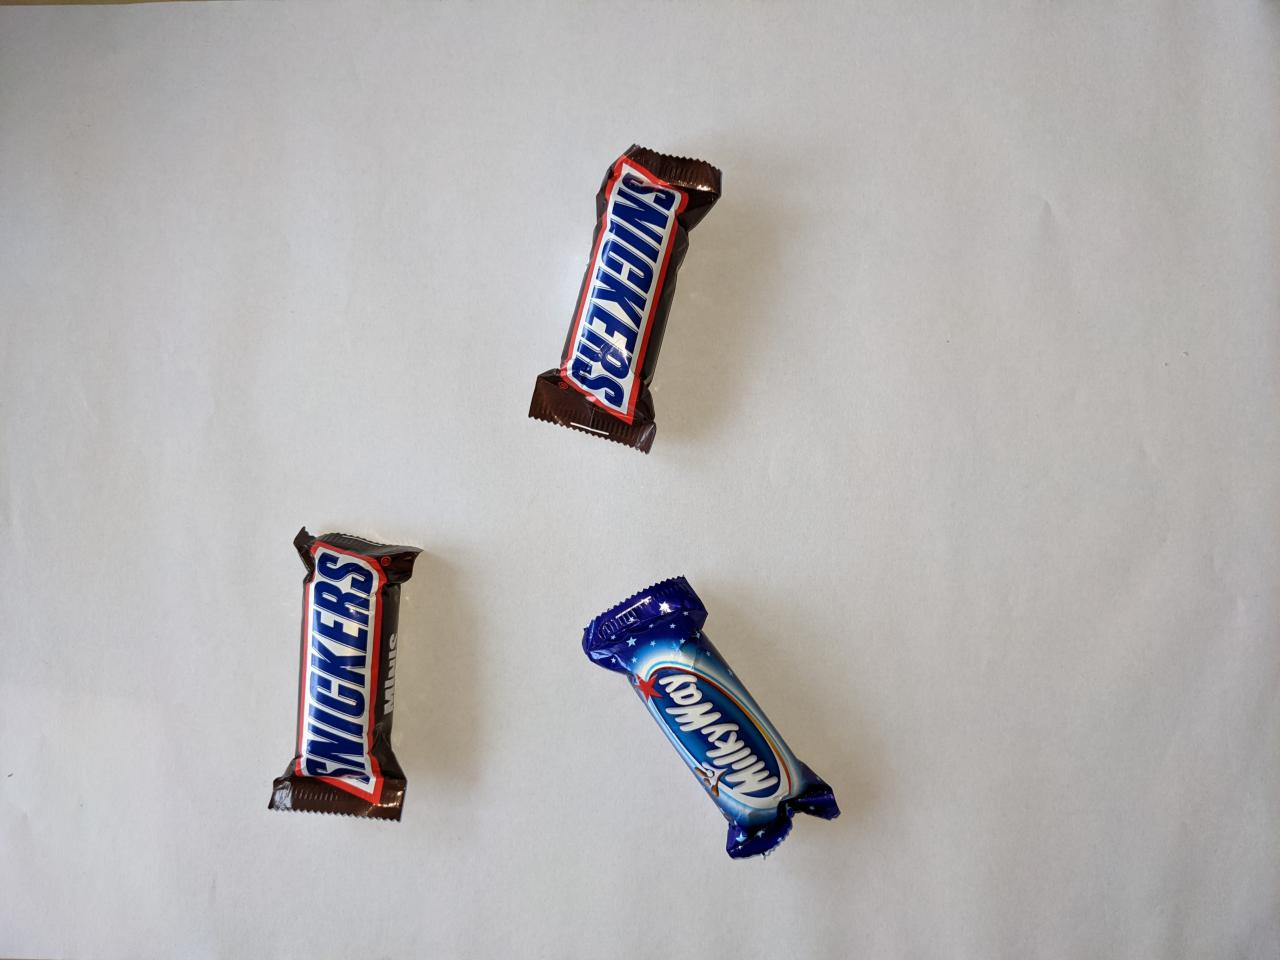MilkyWay: (577, 568, 852, 869)
Snickers: (519, 136, 734, 461), (258, 521, 433, 830)
